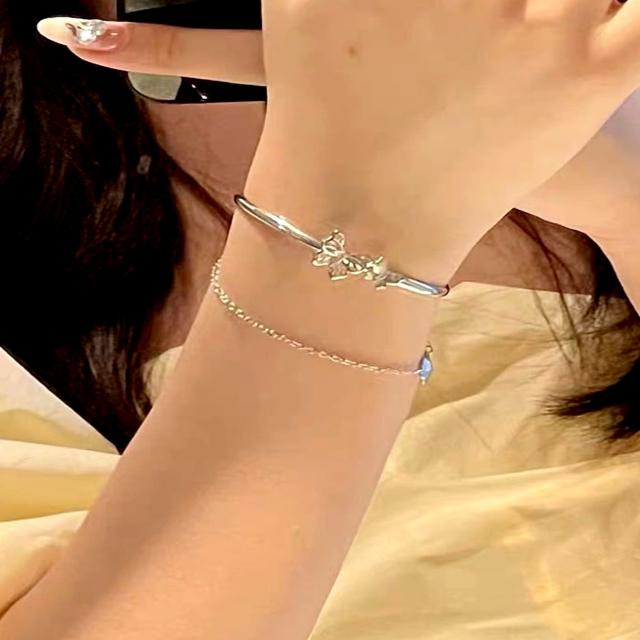bracelet: (120, 150, 578, 416)
